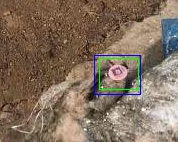text: (99, 58, 138, 89)
